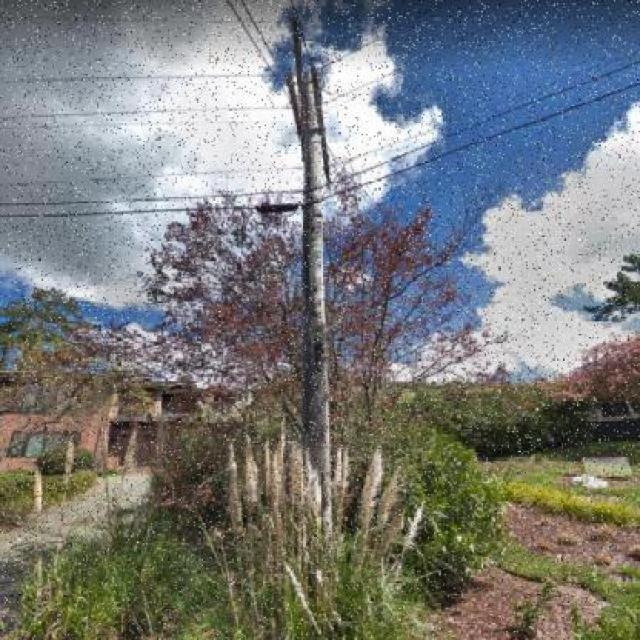pole: (247, 16, 384, 530)
